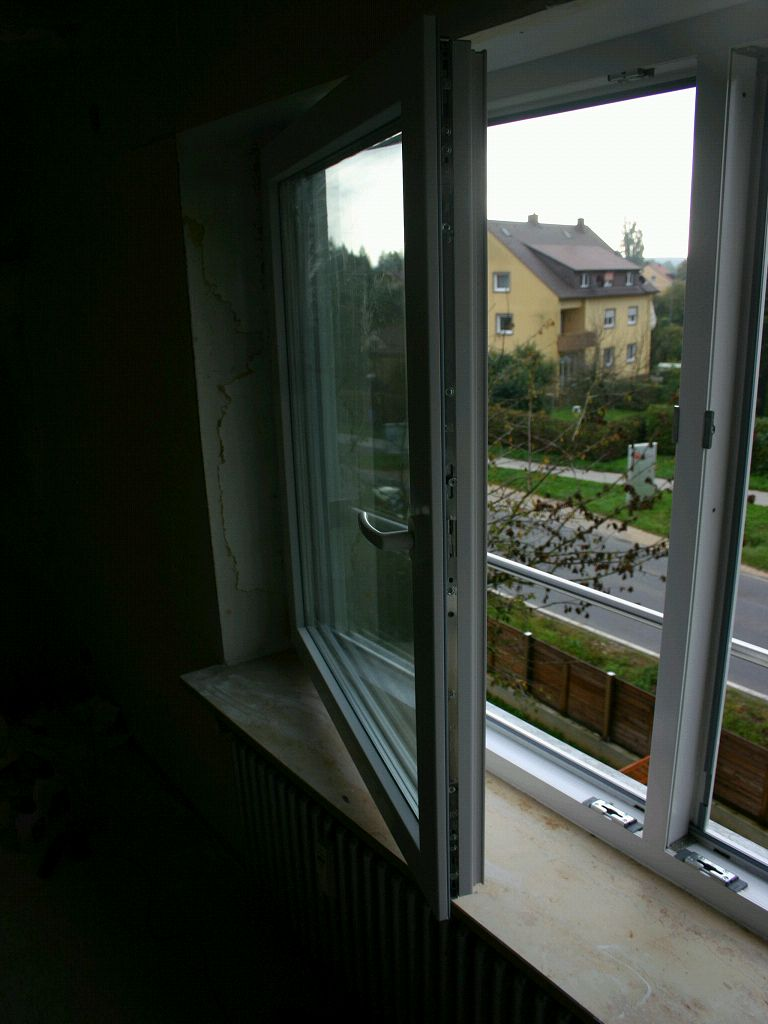windows: (254, 88, 768, 885)
